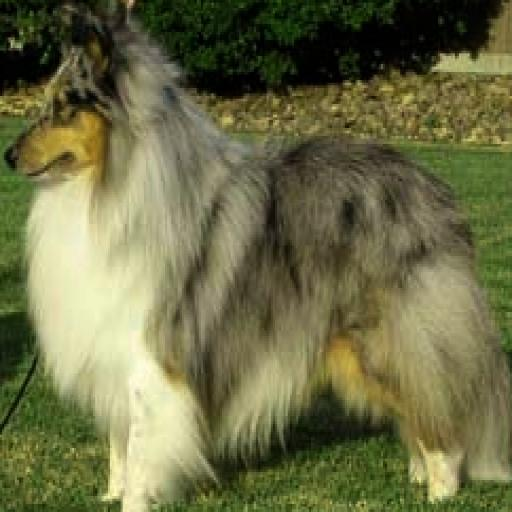dog_face: (0, 20, 178, 191)
